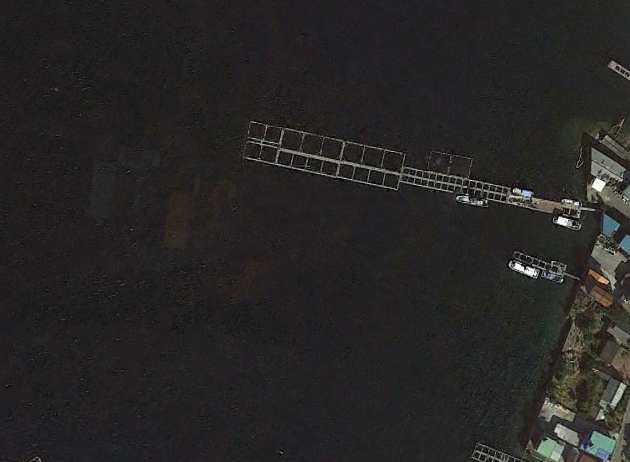house: (580, 425, 619, 461), (583, 269, 618, 309), (598, 372, 630, 408), (595, 336, 629, 369), (534, 432, 566, 461), (597, 211, 621, 238), (615, 228, 630, 258), (590, 178, 610, 195)
ship: (503, 258, 540, 282), (453, 193, 491, 210), (552, 213, 584, 230), (512, 185, 535, 199)
square: (424, 144, 456, 178), (443, 149, 474, 180)
